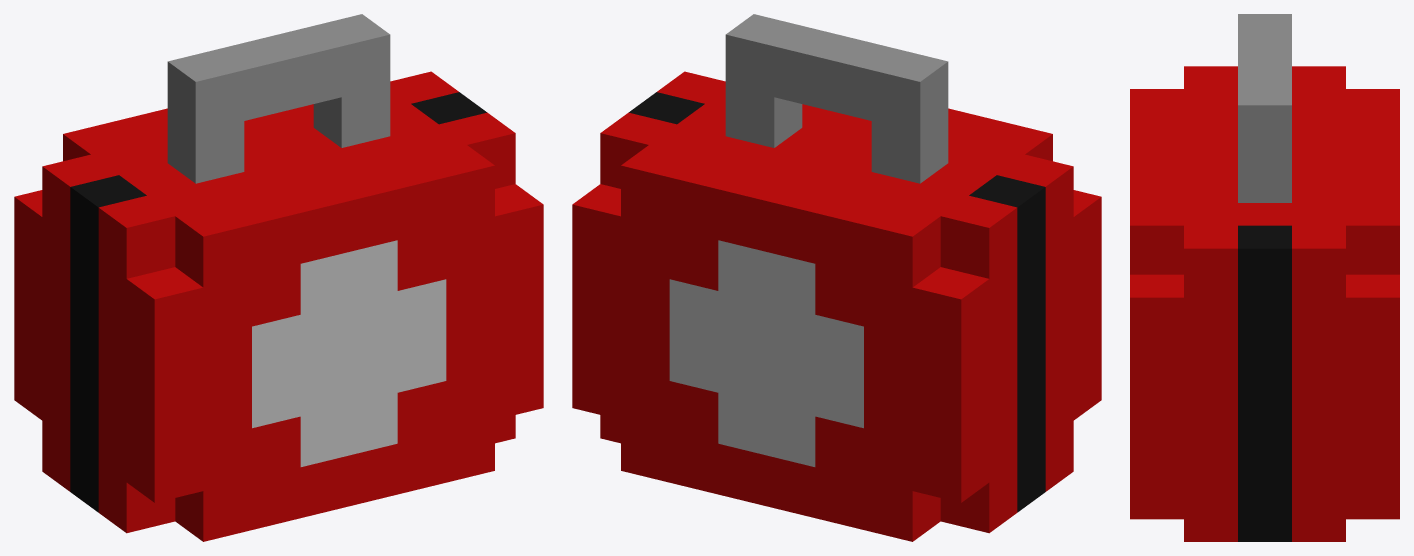
File: Medikit.fbx
3 views of the same model, side by side, from view 1: azimuth 30°, elevation 25°; view 2: azimuth 150°, elevation 25°; view 3: azimuth 270°, elevation 25° (orthographic). The views are drawn at different scales.
Parts seen in each view (by area): view 1: Medikit; view 2: Medikit; view 3: Medikit.
Part boxes in pixels (left/top/right/bottom): Medikit: left=14, top=14, right=543, bottom=541; Medikit: left=572, top=14, right=1101, bottom=541; Medikit: left=1130, top=14, right=1399, bottom=541.
Size of the model in its own units: 80 by 80 by 50.
